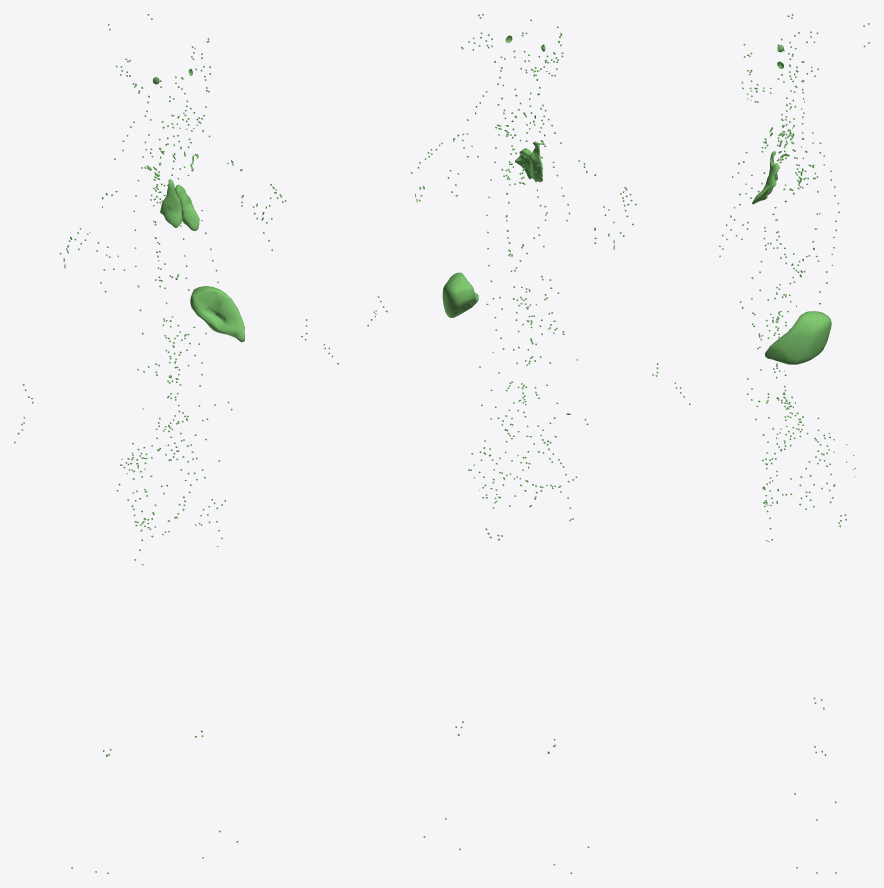
Rendered from lymphatic.glb.
3 renders of one model, left to right at view 1: azimuth 30°, elevation 25°; view 2: azimuth 150°, elevation 25°; view 3: azimuth 270°, elevation 25°, orthographic.
Parts seen in each view (by area): view 1: FJ2561, FJ3151; view 2: FJ2561; view 3: FJ2561, FJ3150.
Part boxes in pixels (left/top/right/bottom): FJ2561: left=190, top=286, right=244, bottom=342; FJ3151: left=160, top=179, right=182, bottom=227; FJ2561: left=442, top=272, right=478, bottom=317; FJ2561: left=765, top=311, right=831, bottom=364; FJ3150: left=752, top=164, right=779, bottom=204.
Bounding box in the file's own units: 0.5218 × 1.28 × 0.2135.
